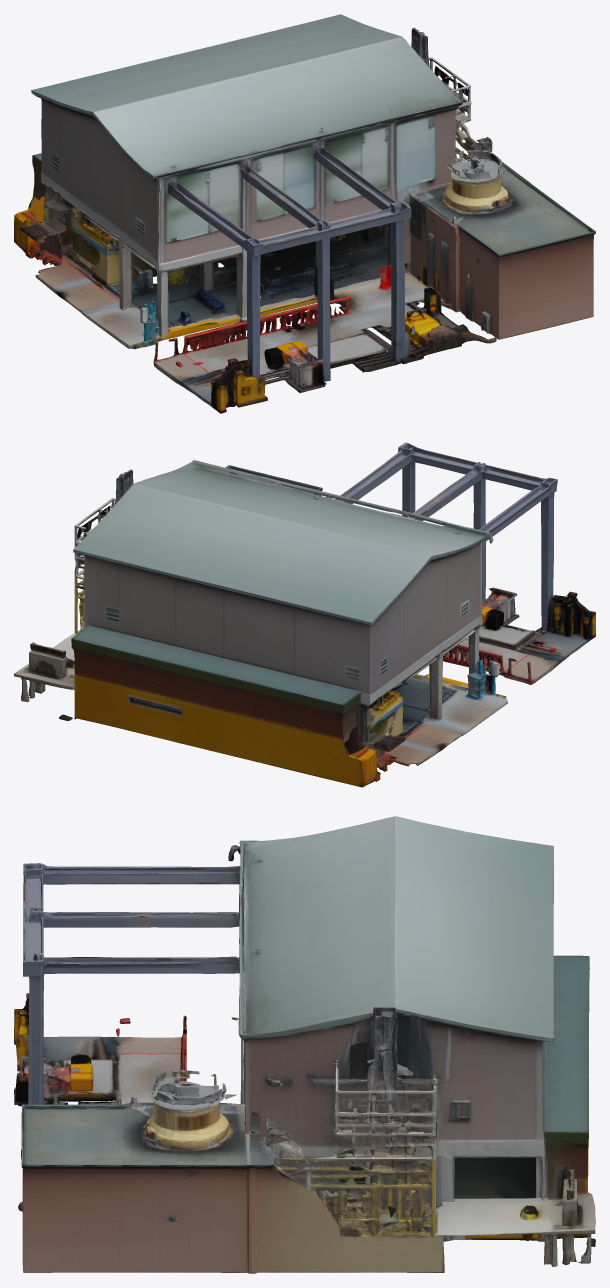
The model's file is Building 3.glb.
3 renders of one model, top to bottom at view 1: azimuth 30°, elevation 25°; view 2: azimuth 150°, elevation 25°; view 3: azimuth 270°, elevation 25°, orthographic. The views are drawn at different scales.
Visible parts, largest first — view 1: world; view 2: world; view 3: world.
Part boxes in pixels (left/top/right/bottom): world: left=14, top=14, right=595, bottom=413; world: left=14, top=442, right=595, bottom=787; world: left=14, top=816, right=595, bottom=1273.
Bounding box in the file's own units: 0.9636 × 0.4834 × 1.
Materials: 1 (1 with a texture image).
